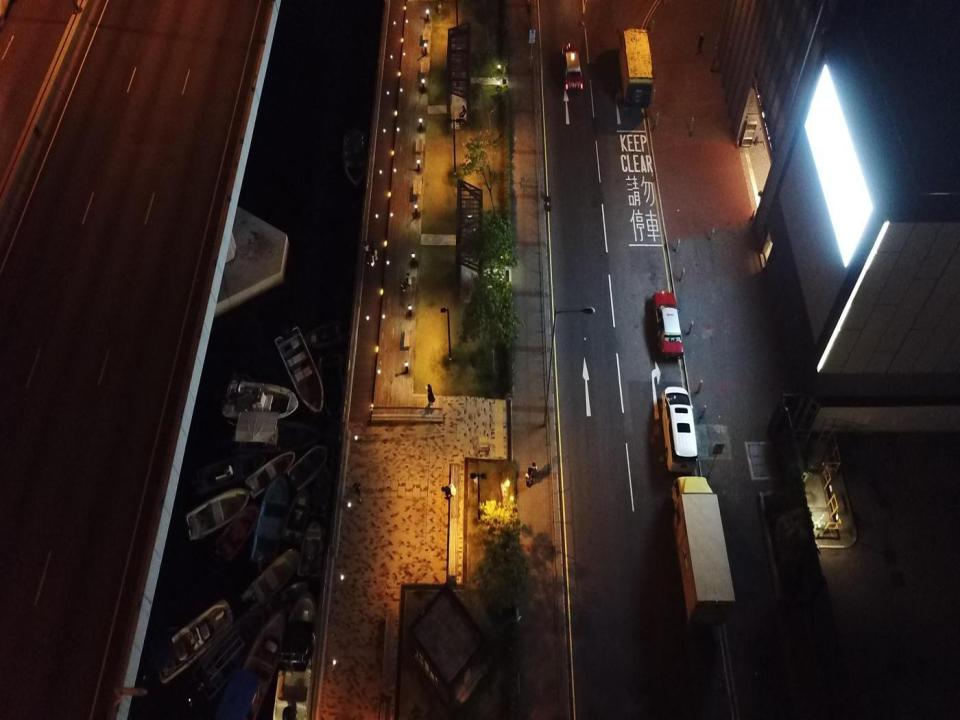car: (654, 290, 683, 358), (562, 43, 584, 91)
truck: (672, 476, 734, 625), (619, 28, 654, 108)
van: (660, 386, 698, 472)
